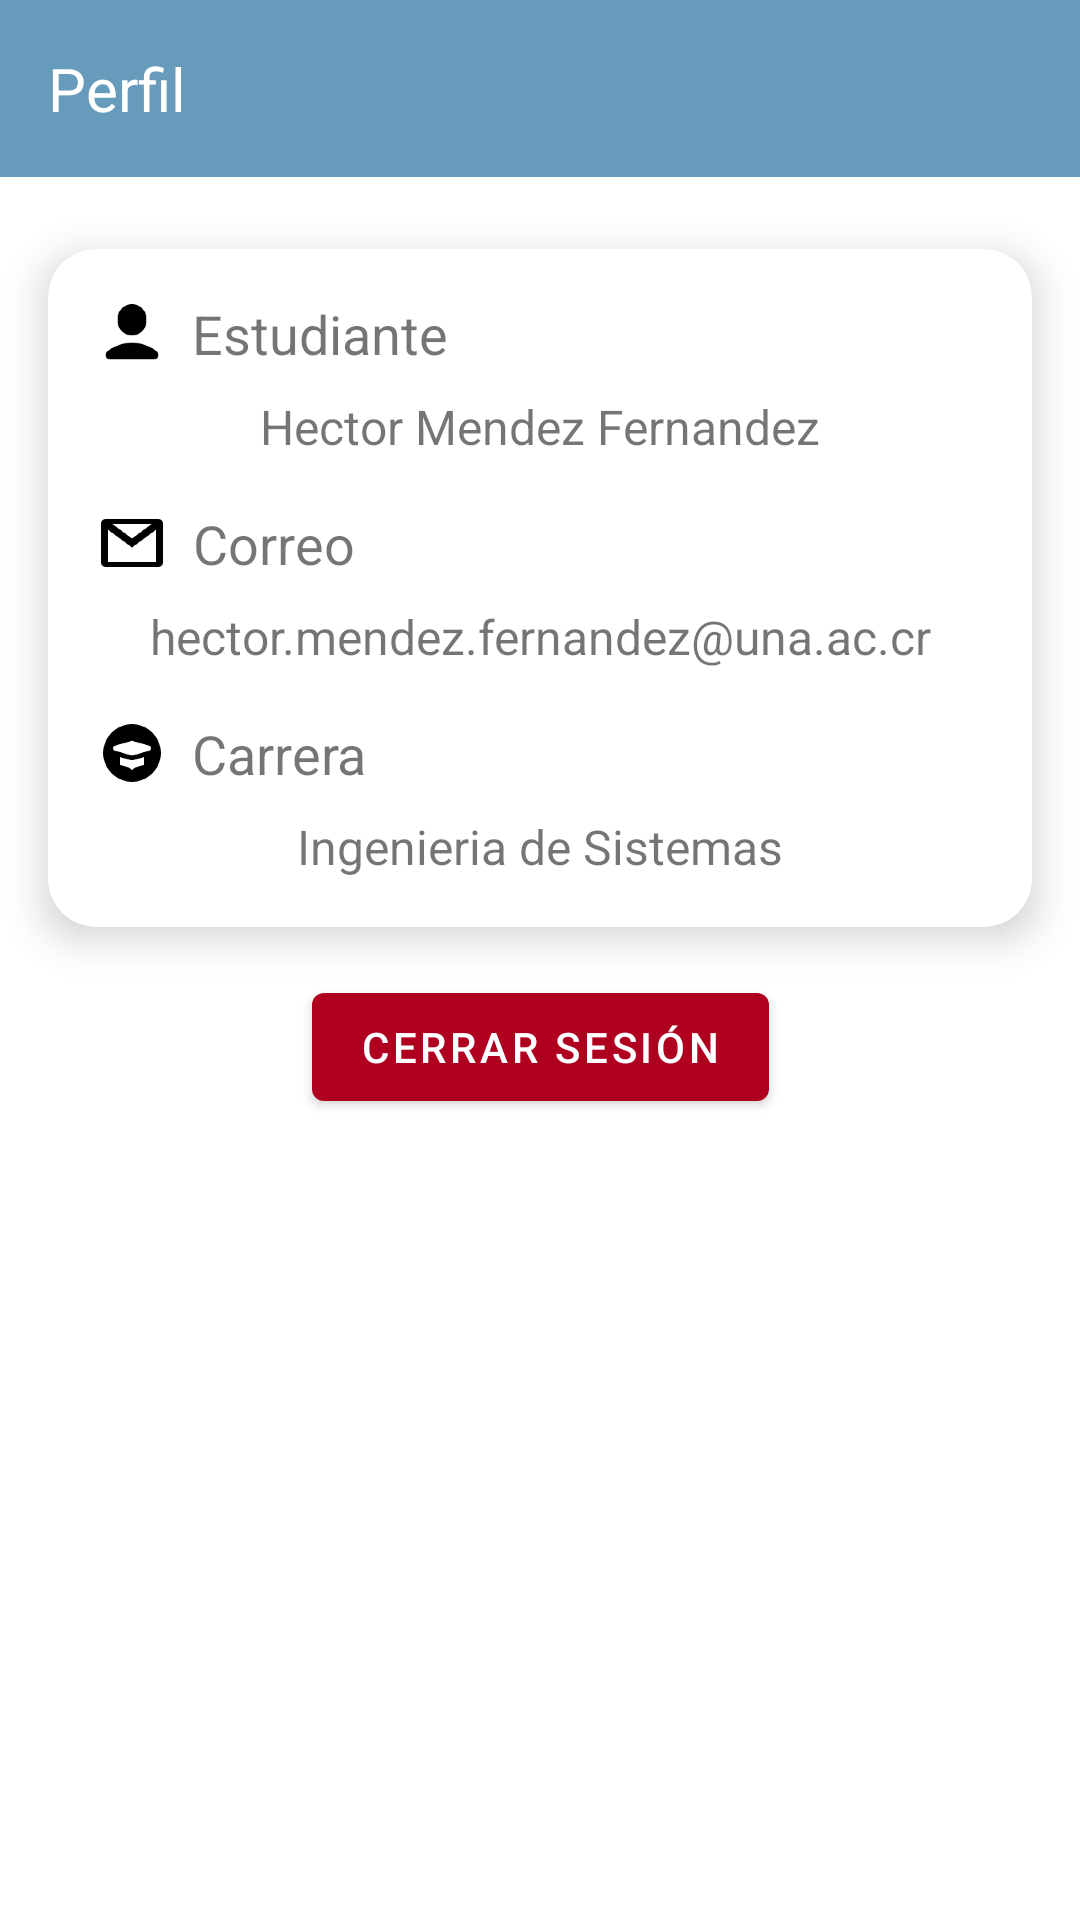

Named icons in this screenshot (1080×1920) and their centers, (x,y):
education: (132,753)
gmail: (132,543)
user: (132,332)
